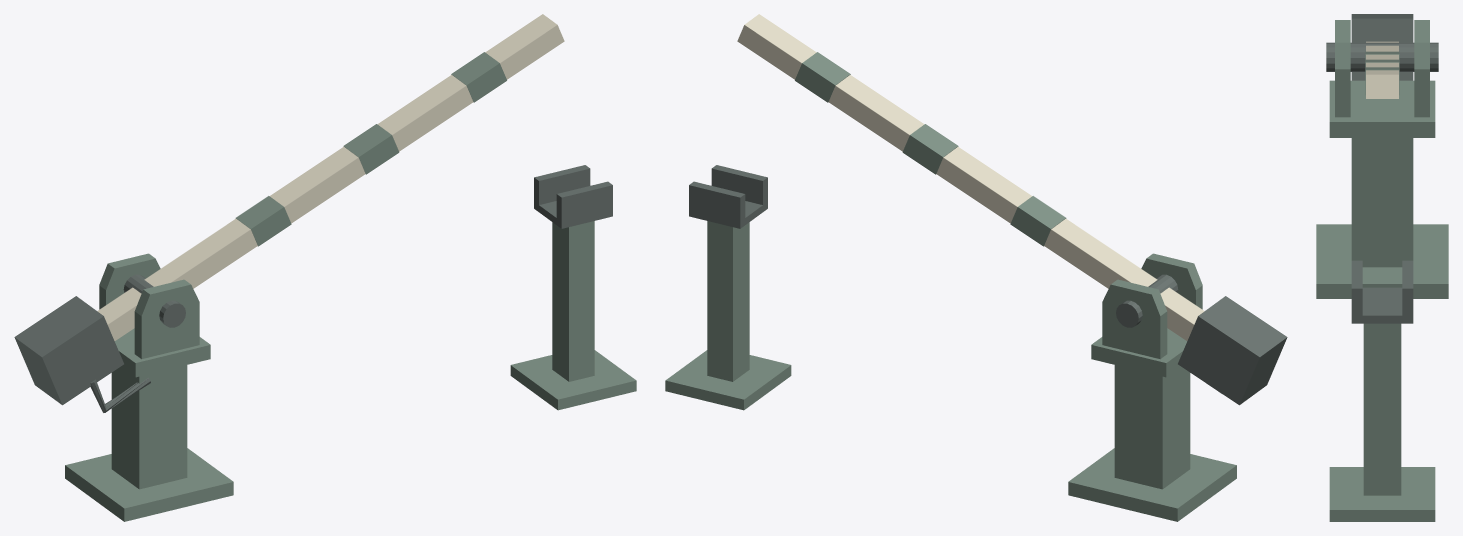
3 views of the same model, side by side, from view 1: azimuth 30°, elevation 25°; view 2: azimuth 150°, elevation 25°; view 3: azimuth 270°, elevation 25° (orthographic). The views are drawn at different scales.
Parts seen in each view (by area): view 1: WholeLongBoomAndShortTail, WholeMainSupportColumn, WholeThickShortTailCounterweight, WholeCatchUpright, WholeMainGroundFoot, WholeCatchGroundFoot, WholeNearRoundedPivotCheek, WholeForkSeat, WholeNearCatchGuide, WholeFarRoundedPivotCheek, WholeBoomMarkingBand0, WholeBoomMarkingBand1 (+4 smaller); view 2: WholeLongBoomAndShortTail, WholeMainSupportColumn, WholeThickShortTailCounterweight, WholeCatchUpright, WholeMainGroundFoot, WholeCatchGroundFoot, WholeFarRoundedPivotCheek, WholeForkSeat, WholeFarCatchGuide, WholeNearRoundedPivotCheek, WholeBoomMarkingBand0, WholeBoomMarkingBand1 (+4 smaller); view 3: WholeMainSupportColumn, WholeCatchUpright, WholeMainGroundFoot, WholeCatchGroundFoot, WholeForkSeat, WholeThickShortTailCounterweight, WholeCatchLowerSeat, WholeLongBoomAndShortTail, WholeTransverseFixedPivot, WholeNearRoundedPivotCheek, WholeFarRoundedPivotCheek, WholeNearCatchGuide (+2 smaller).
Part boxes in pixels (box(x1,y1,x2,y2)): WholeLongBoomAndShortTail: box(97, 14, 564, 340); WholeMainSupportColumn: box(111, 365, 187, 489); WholeThickShortTailCounterweight: box(14, 296, 123, 405); WholeCatchUpright: box(552, 221, 594, 381); WholeMainGroundFoot: box(65, 448, 233, 521); WholeCatchGroundFoot: box(510, 350, 636, 410); WholeNearRoundedPivotCheek: box(134, 279, 199, 359); WholeForkSeat: box(115, 328, 210, 377); WholeNearCatchGuide: box(556, 181, 612, 222); WholeFarRoundedPivotCheek: box(99, 253, 160, 309); WholeBoomMarkingBand0: box(235, 196, 291, 246); WholeBoomMarkingBand1: box(343, 124, 399, 174); WholeLongBoomAndShortTail: box(737, 14, 1204, 340); WholeMainSupportColumn: box(1114, 365, 1190, 489); WholeThickShortTailCounterweight: box(1178, 296, 1287, 405); WholeCatchUpright: box(707, 221, 749, 381); WholeMainGroundFoot: box(1068, 448, 1236, 521); WholeCatchGroundFoot: box(665, 350, 791, 410); WholeFarRoundedPivotCheek: box(1102, 279, 1167, 359); WholeForkSeat: box(1091, 328, 1186, 377); WholeFarCatchGuide: box(689, 181, 745, 222); WholeNearRoundedPivotCheek: box(1141, 253, 1202, 309); WholeBoomMarkingBand0: box(1010, 196, 1066, 246); WholeBoomMarkingBand1: box(902, 124, 958, 174); WholeMainSupportColumn: box(1351, 138, 1413, 267); WholeCatchUpright: box(1363, 323, 1401, 495); WholeMainGroundFoot: box(1316, 224, 1448, 298); WholeCatchGroundFoot: box(1329, 467, 1435, 521); WholeForkSeat: box(1329, 80, 1435, 137); WholeThickShortTailCounterweight: box(1351, 14, 1413, 80); WholeCatchLowerSeat: box(1351, 287, 1413, 323); WholeLongBoomAndShortTail: box(1366, 41, 1398, 98); WholeTransverseFixedPivot: box(1326, 42, 1438, 71); WholeNearRoundedPivotCheek: box(1335, 20, 1350, 117); WholeFarRoundedPivotCheek: box(1414, 20, 1429, 117); WholeNearCatchGuide: box(1351, 260, 1362, 316).
Bounding box in the file's own units: 3.42 × 2.07 × 0.6.
